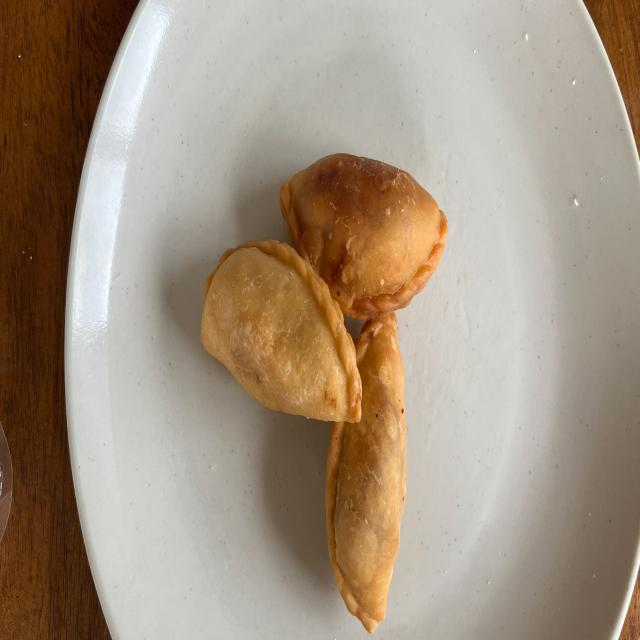karipap: (201, 240, 361, 422), (280, 153, 448, 320), (325, 313, 406, 633)
